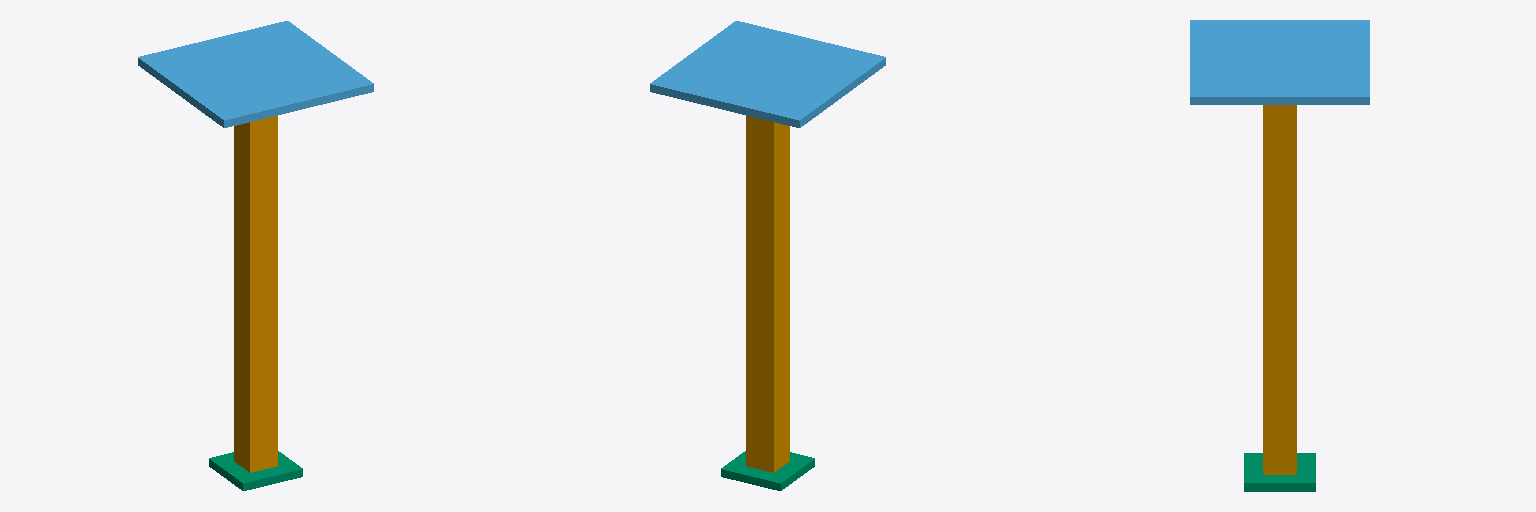
robot.urdf — block:
<robot name="block">
  <static>1</static>
  <link name="block">
    <inertial>
      <origin xyz="0.025 0.025 0.2" />
      <mass value=".01" />
      <!-- (1/12)*mass*(h^2 + d^2)  (1/12)*mass*(w^2 + d^2) (1/12)*mass*(w^2 + h^2) -->
      <!-- (1/12)*0.5*(0.045^2 + 0.045^2)  (1/12)*0.5*(0.045^2 + 0.045^2) (1/12)*0.5*(0.045^2 + 0.045^2) -->
      <inertia  ixx="0.000052083" ixy="0.0"  ixz="0.0"  iyy="0.000052083"  iyz="0.0"  izz="0.000052083" />
    </inertial>
    <visual>
      <origin xyz="0.0 0.0 0.0" />
      <geometry>
        <box size="0.03 0.03 0.4" />
      </geometry>
    </visual>
    <collision>
      <origin xyz="0.0 0.0 0.0" />
      <geometry>
        <box size="0.03 0.03 0.40" />
      </geometry>
      <surface>
        <friction>
          <ode>
            <mu>0.75</mu>
            <mu2>0.75</mu2>
          </ode>
        </friction>
        <contact>
          <ode>
            <kp>1000000.0</kp>
            <kd>1</kd>
            <min_depth>0.0025</min_depth>
            <max_vel>1.0</max_vel>
          </ode>
        </contact>
      </surface>
    </collision>
  </link>

  <link name="handhold_1">
    <inertial>
      <origin xyz="0.0 0.0 0.0" />
      <mass value=".01" />
      <!-- (1/12)*mass*(h^2 + d^2)  (1/12)*mass*(w^2 + d^2) (1/12)*mass*(w^2 + h^2) -->
      <!-- (1/12)*0.5*(0.045^2 + 0.045^2)  (1/12)*0.5*(0.045^2 + 0.045^2) (1/12)*0.5*(0.045^2 + 0.045^2) -->
      <inertia  ixx="0.000052083" ixy="0.0"  ixz="0.0"  iyy="0.000052083"  iyz="0.0"  izz="0.000052083" />

    </inertial>
    <visual>
      <origin xyz="0.0 0.0 0.0" />
      <geometry>
        <mesh filename="package://world_simulation/models/aruco_cube/meshes/aruco_cube_8cm_26.dae" scale="2 2 .1"/>
      </geometry>
    </visual>
    <collision>
      <origin xyz="0.0 0.0 0.0" />
      <geometry>
        <box size="0.2 0.2 0.01" />
      </geometry>
      <surface>
        <friction>
          <ode>
            <mu>0.75</mu>
            <mu2>0.75</mu2>
          </ode>
        </friction>
        <contact>
          <ode>
            <kp>1000000.0</kp>
            <kd>1</kd>
            <min_depth>0.0025</min_depth>
            <max_vel>1.0</max_vel>
          </ode>
        </contact>
      </surface>
    </collision>
  </link>

  <link name="handhold_2">
    <inertial>
      <origin xyz="0.0 0.0 0.0" />
      <mass value="5" />
      <!-- (1/12)*mass*(h^2 + d^2)  (1/12)*mass*(w^2 + d^2) (1/12)*mass*(w^2 + h^2) -->
      <!-- (1/12)*0.5*(0.045^2 + 0.045^2)  (1/12)*0.5*(0.045^2 + 0.045^2) (1/12)*0.5*(0.045^2 + 0.045^2) -->
      <inertia  ixx="0.000052083" ixy="0.0"  ixz="0.0"  iyy="0.000052083"  iyz="0.0"  izz="0.000052083" />

    </inertial>
    <visual>
      <origin xyz="0.0 0.0 0.0" />
      <geometry>
        <mesh filename="package://world_simulation/models/aruco_cube/meshes/aruco_cube_8cm_26.dae" scale=".8 .8 .1"/>
      </geometry>
    </visual>
    <collision>
      <origin xyz="0.0 0.0 0.0" />
      <geometry>
        <box size="0.08 0.08 0.01" />
      </geometry>
      <surface>
        <friction>
          <ode>
            <mu>0.75</mu>
            <mu2>0.75</mu2>
          </ode>
        </friction>
        <contact>
          <ode>
            <kp>1000000.0</kp>
            <kd>1</kd>
            <min_depth>0.0025</min_depth>
            <max_vel>1.0</max_vel>
          </ode>
        </contact>
      </surface>
    </collision>
  </link>

  <joint name="block_to_handholds_1" type="fixed">
    <parent link="block"/>
    <child link="handhold_1"/>
    <origin xyz="0 0 0.2"/>
  </joint>

  <joint name="block_to_handholds_2" type="fixed">
    <parent link="block"/>
    <child link="handhold_2"/>
    <origin xyz="0 0 -0.2"/>
  </joint>
</robot>

--- Facts derived from the render (not from the file) ---
Views: 3 orthographic renders of the robot side by side, from view 1: azimuth 30°, elevation 25°; view 2: azimuth 150°, elevation 25°; view 3: azimuth 270°, elevation 25°.
Model block with 3 links and 2 joints (2 fixed), rooted at block, posed every joint at zero.
Links seen in each view (by area): view 1: block, handhold_1, handhold_2; view 2: block, handhold_1, handhold_2; view 3: handhold_1, block, handhold_2.
Link boxes in pixels (<box>): block: <box>234,116,277,472</box>; handhold_1: <box>138,21,373,127</box>; handhold_2: <box>209,451,302,490</box>; block: <box>746,116,789,472</box>; handhold_1: <box>650,21,885,127</box>; handhold_2: <box>721,451,814,490</box>; handhold_1: <box>1190,20,1369,104</box>; block: <box>1263,105,1296,474</box>; handhold_2: <box>1244,453,1315,491</box>.
Bounding box of the posed robot: 0.16 × 0.16 × 0.408 m (x, y, z).
Meshes: 1 distinct files referenced, 2 mesh visuals loaded (1 Collada DAE).